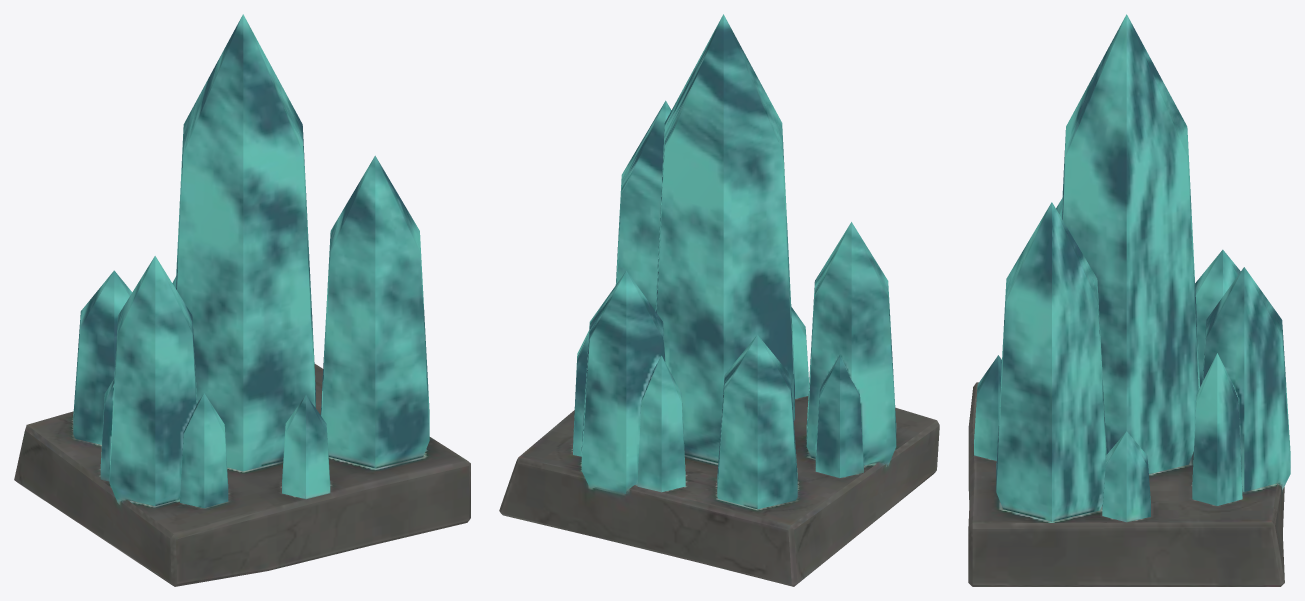
File: crystal_cluster.glb
3 views of the same model, side by side, from view 1: azimuth 30°, elevation 25°; view 2: azimuth 150°, elevation 25°; view 3: azimuth 270°, elevation 25° (orthographic). The views are drawn at different scales.
Parts seen in each view (by area): view 1: crystal_cluster; view 2: crystal_cluster; view 3: crystal_cluster.
Part boxes in pixels (left/top/right/bottom): crystal_cluster: left=14, top=14, right=470, bottom=586; crystal_cluster: left=499, top=14, right=939, bottom=586; crystal_cluster: left=968, top=14, right=1290, bottom=586.
Size of the model in its own units: 0.675 by 1.03 by 0.6028.
1 material, 1 textured.
